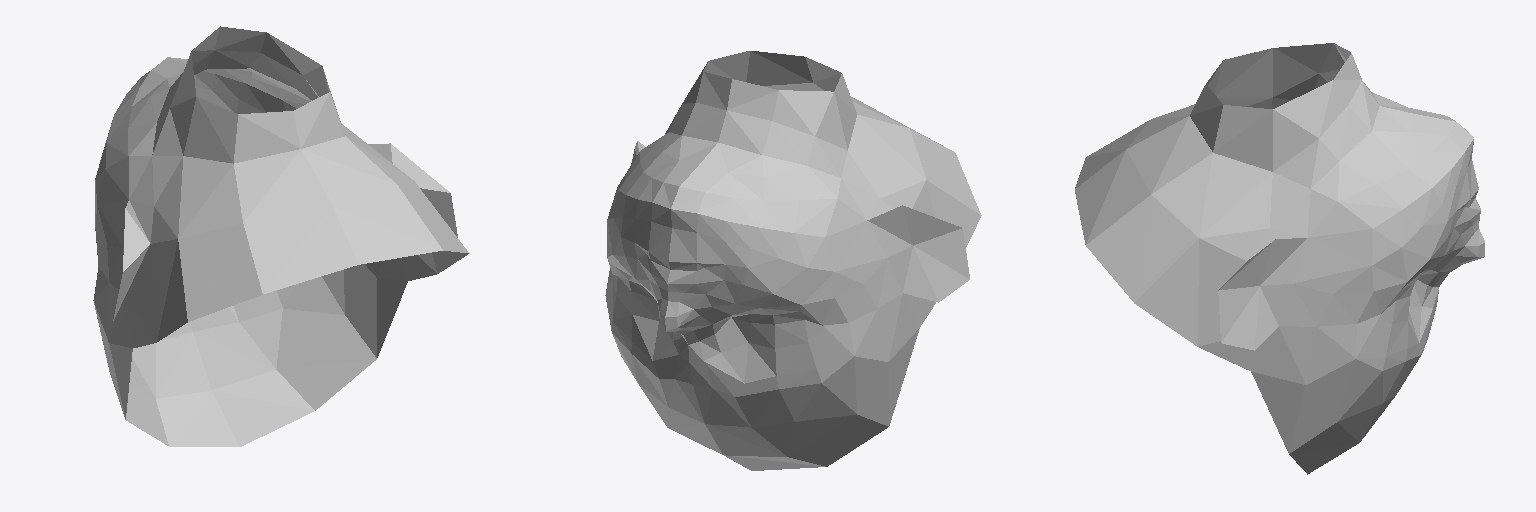
The model's file is cfe000_00_d.obj.
The picture shows the model from 3 angles: view 1: azimuth 30°, elevation 25°; view 2: azimuth 150°, elevation 25°; view 3: azimuth 270°, elevation 25°; orthographic projection.
Parts seen in each view (by area): view 1: unnamed, unnamed.002; view 2: unnamed, unnamed.002; view 3: unnamed, unnamed.002.
Part boxes in pixels (x1,y1,x2,y2): unnamed: (95,26,469,446); unnamed.002: (93,206,376,398); unnamed: (607,51,981,470); unnamed.002: (605,258,888,456); unnamed: (1075,43,1484,474); unnamed.002: (1306,266,1438,442).
Bounding box in the file's own units: 0.2225 × 0.2502 × 0.2291.